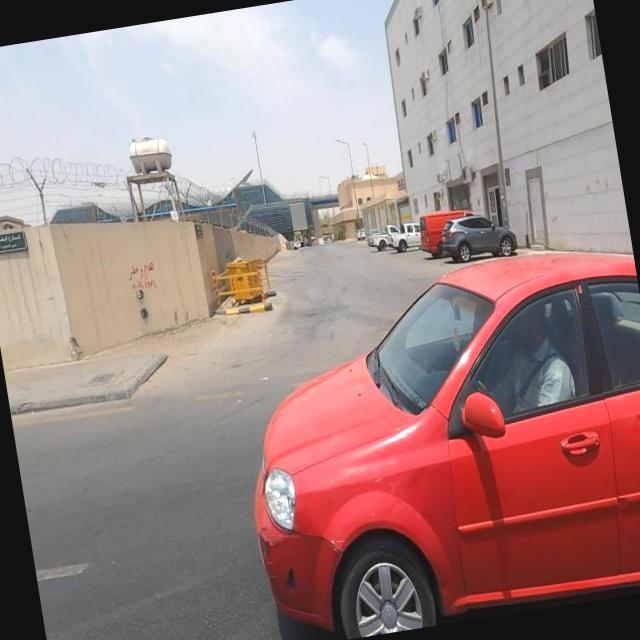debris: (100, 230, 190, 327)
